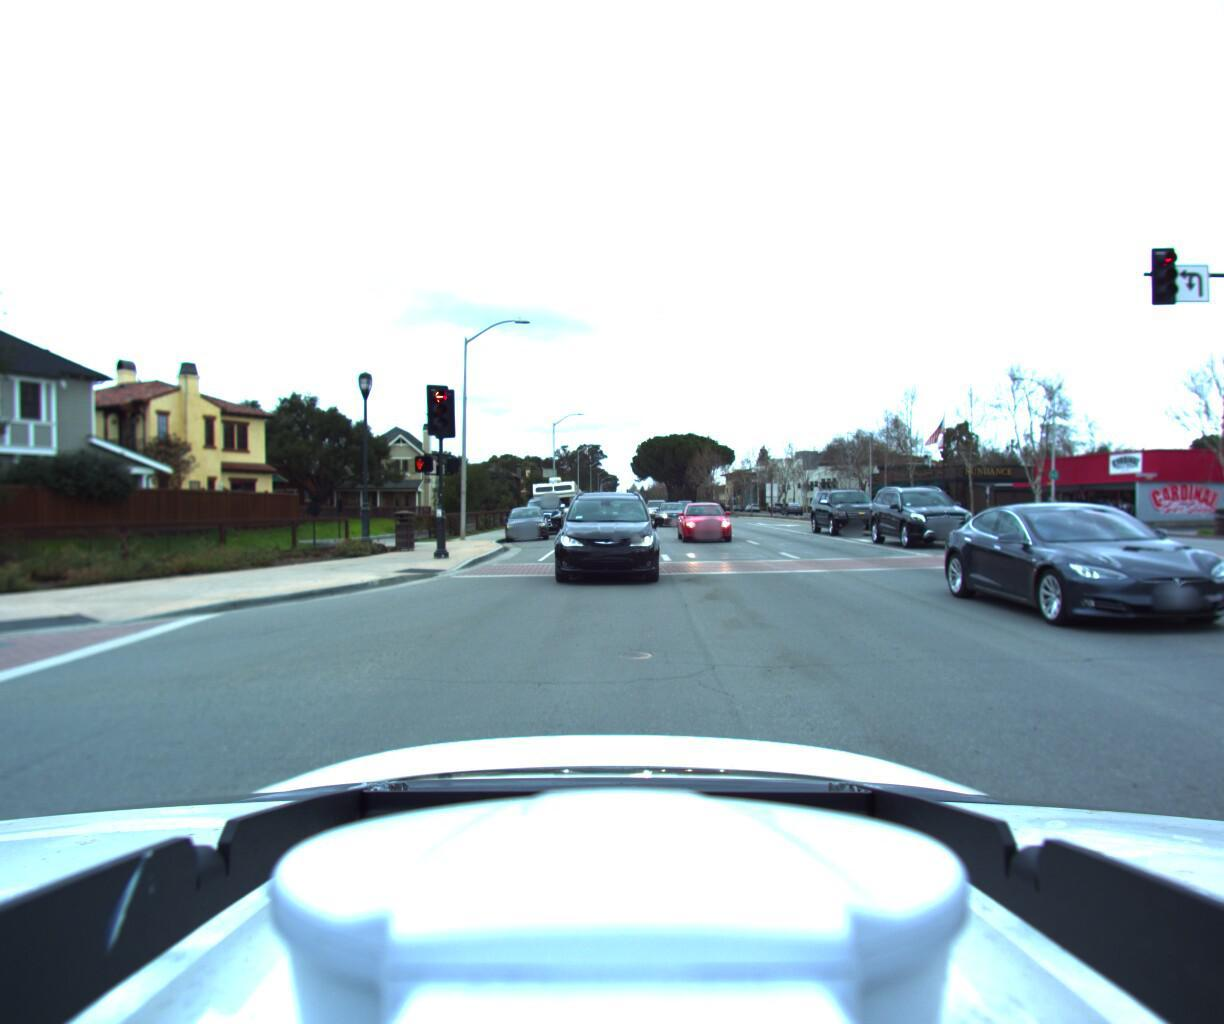car: (971, 489, 1224, 650), (550, 485, 657, 583), (861, 481, 972, 551), (804, 484, 883, 536), (675, 498, 738, 543), (516, 495, 566, 534), (501, 505, 548, 542), (654, 499, 689, 526), (642, 503, 667, 522)
other_vehicle: (528, 481, 578, 532)
